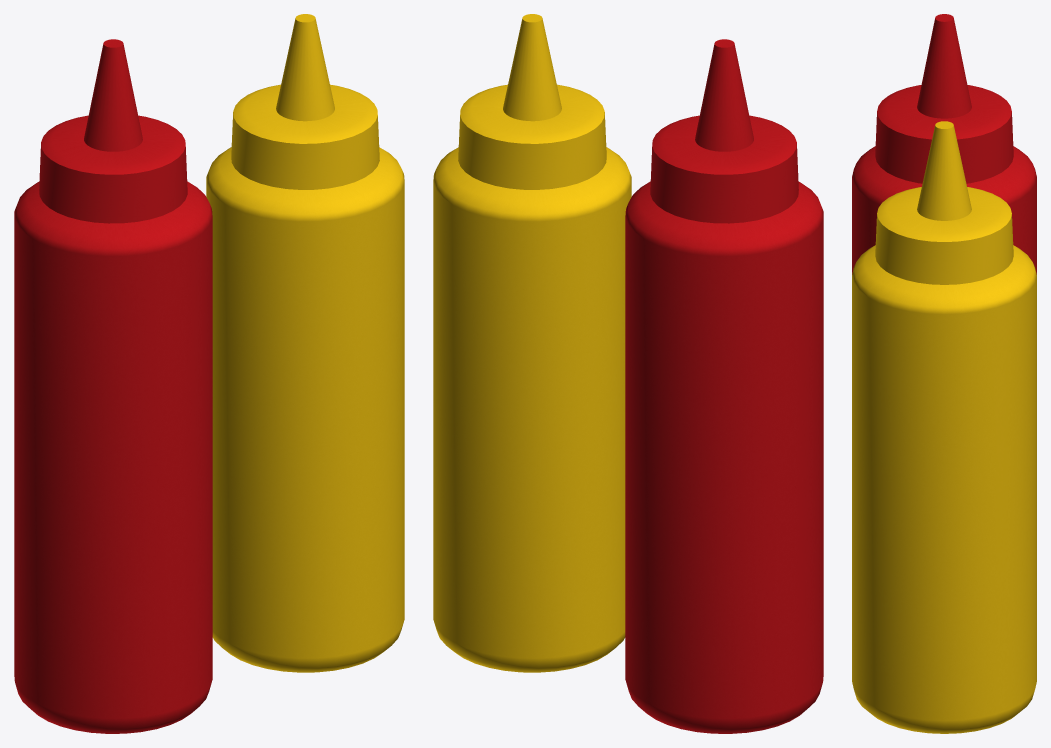
Rendered from condimentos.glb.
3 views of the same model, side by side, from view 1: azimuth 30°, elevation 25°; view 2: azimuth 150°, elevation 25°; view 3: azimuth 270°, elevation 25° (orthographic). The views are drawn at different scales.
Parts seen in each view (by area): view 1: Cylinder.001, Cylinder; view 2: Cylinder.001, Cylinder; view 3: Cylinder, Cylinder.001.
Part boxes in pixels (x1,y1,x2,y2): Cylinder.001: (14, 39, 212, 733); Cylinder: (206, 14, 404, 672); Cylinder.001: (625, 39, 823, 733); Cylinder: (433, 14, 631, 672); Cylinder: (852, 121, 1036, 733); Cylinder.001: (852, 14, 1036, 274).
Size of the model in its own units: 2.33 by 4.02 by 1.1.
Materials: 4 (4 with a texture image).
